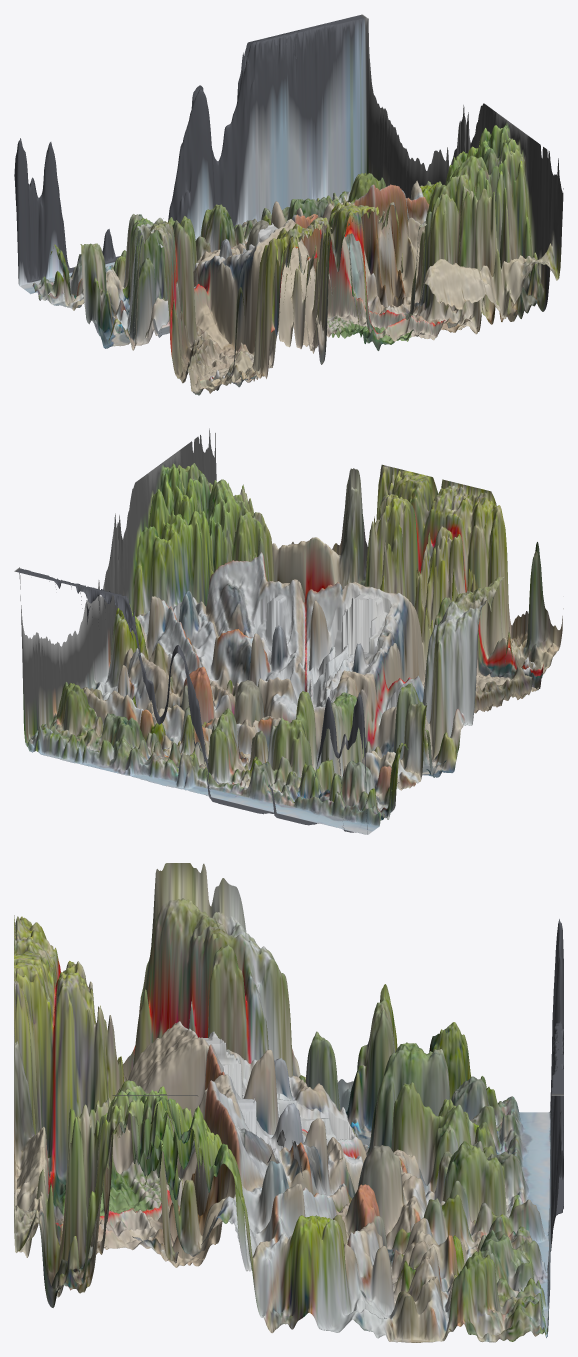
The model's file is dsm_c16dedc1af_mesh.glb.
3 views of the same model, one above another, from view 1: azimuth 30°, elevation 25°; view 2: azimuth 150°, elevation 25°; view 3: azimuth 270°, elevation 25° (orthographic). The views are drawn at different scales.
Visible parts, largest first — view 1: geometry_0; view 2: geometry_0; view 3: geometry_0.
Boxes of the visible parts, <box> form: geometry_0: <box>14,14,563,395</box>; geometry_0: <box>14,428,563,834</box>; geometry_0: <box>14,863,563,1342</box>.
Bounding box in the file's own units: 2 × 1 × 2.
